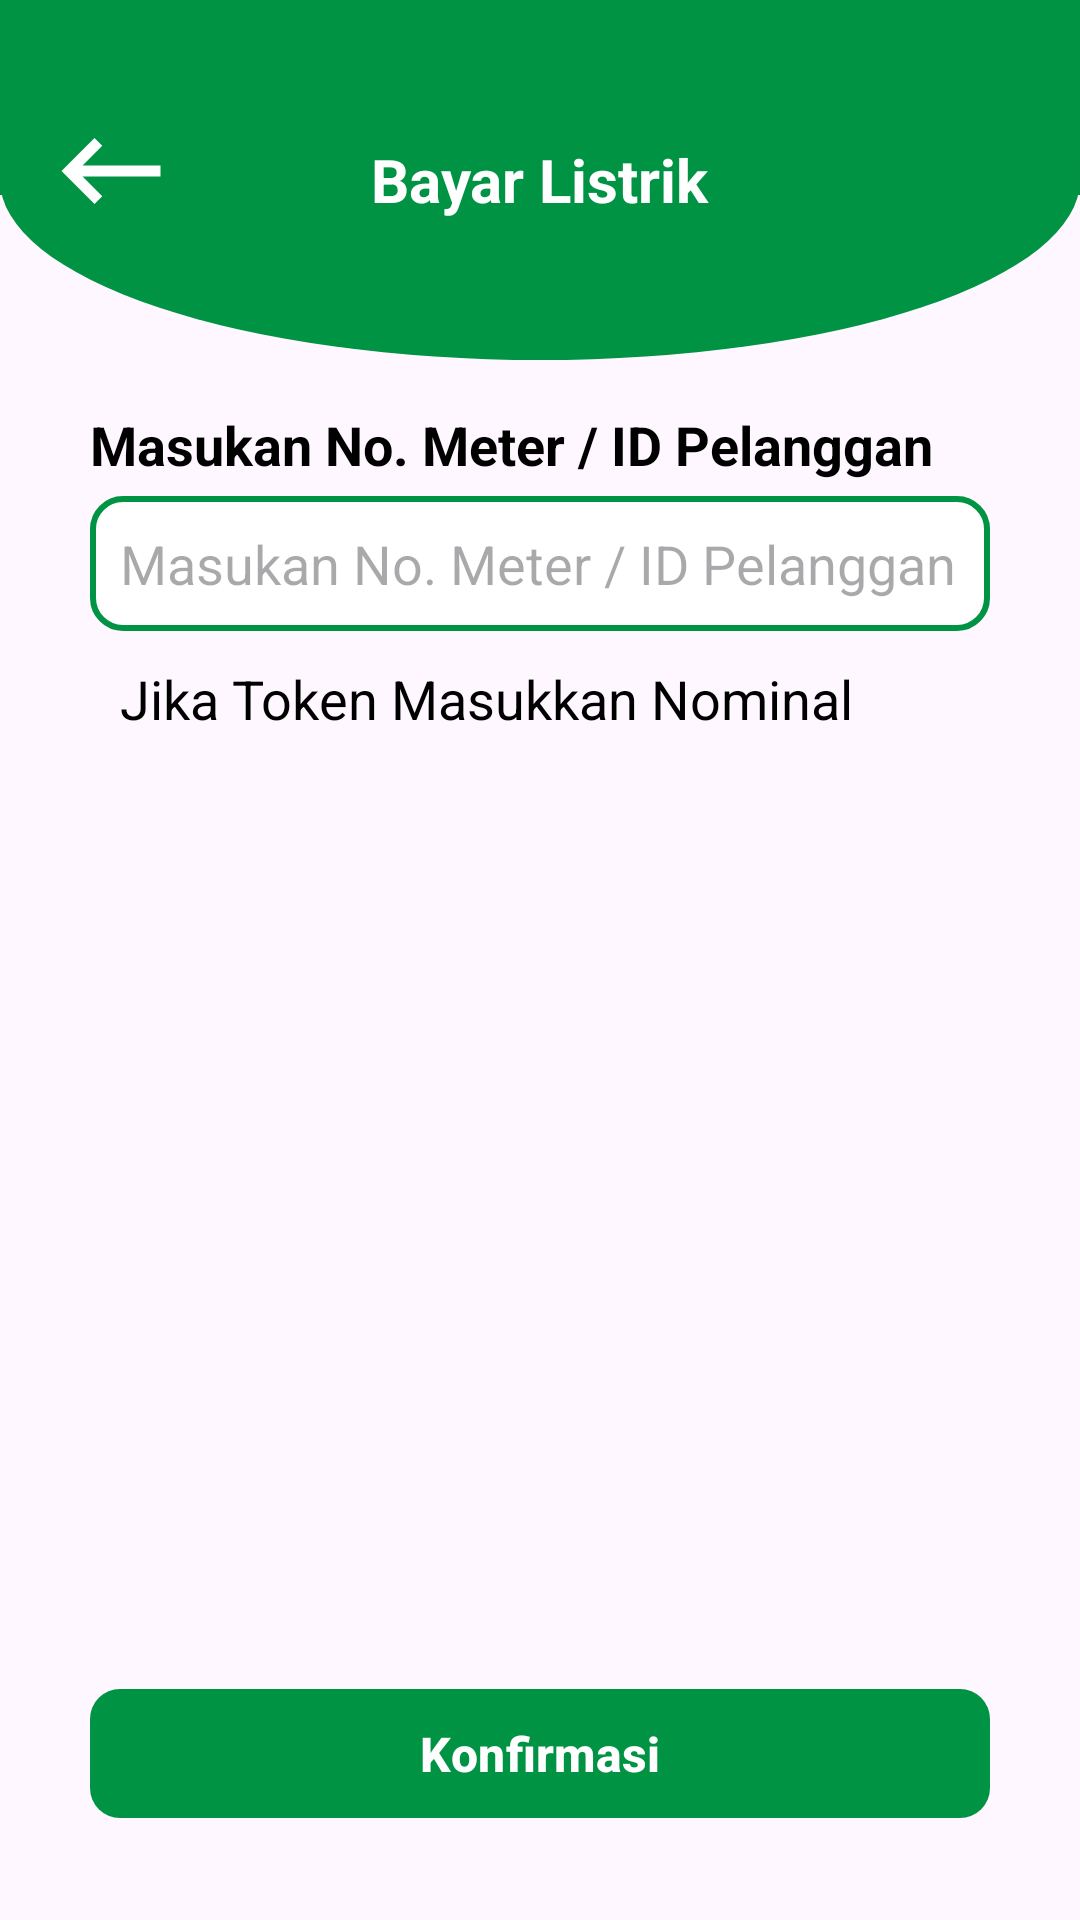

Named icons in this screenshot (1080px×1920px) and their bounding boxes, (x1, y1, x2, y2):
keyboard backspace: (61, 138, 161, 204)
